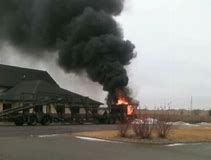smoke: (1, 1, 137, 94)
